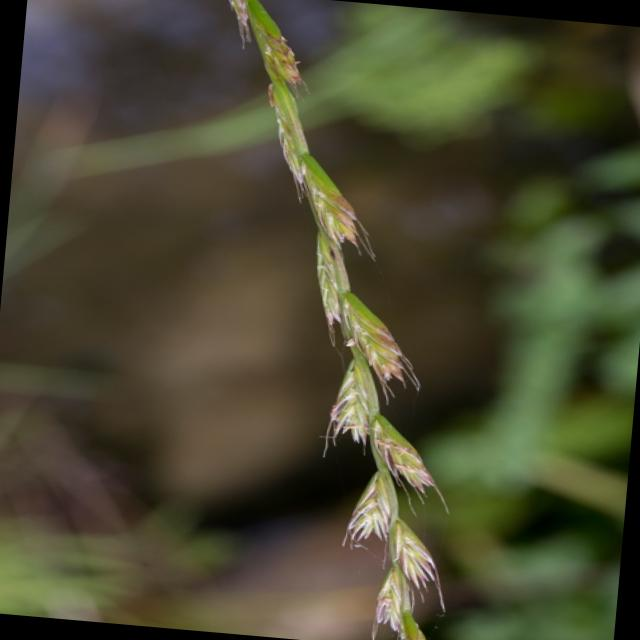Lolium: (167, 0, 501, 640)
